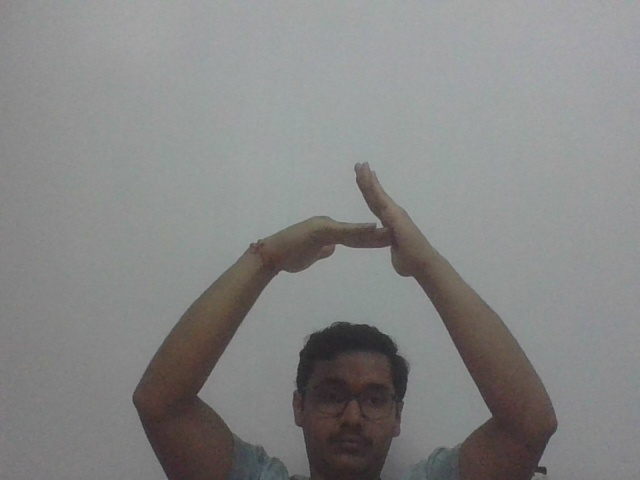Z: (249, 157, 439, 294)
